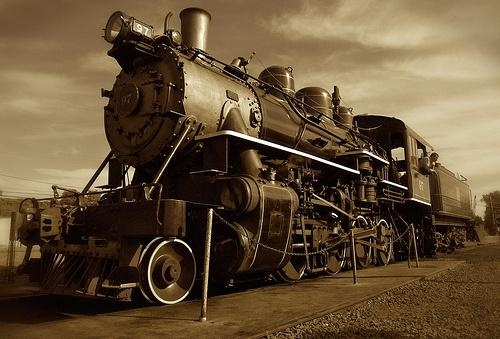train: (16, 8, 475, 321)
